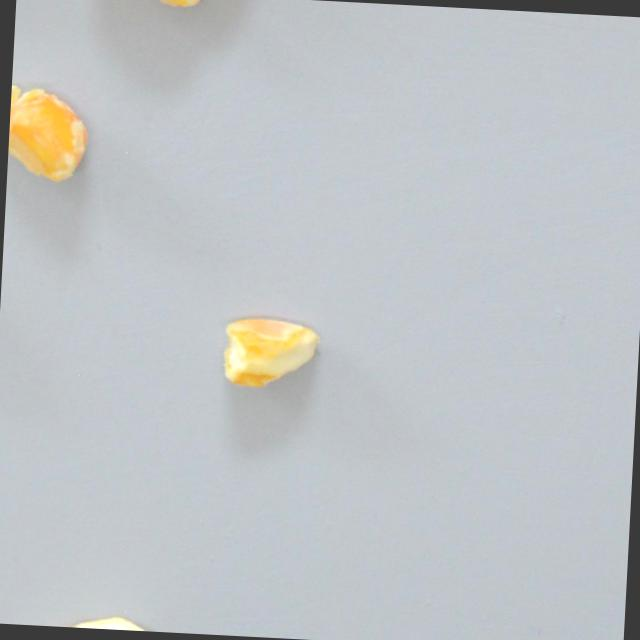dañado: (7, 78, 99, 186), (214, 314, 326, 394), (22, 608, 159, 632), (80, 0, 210, 10)
